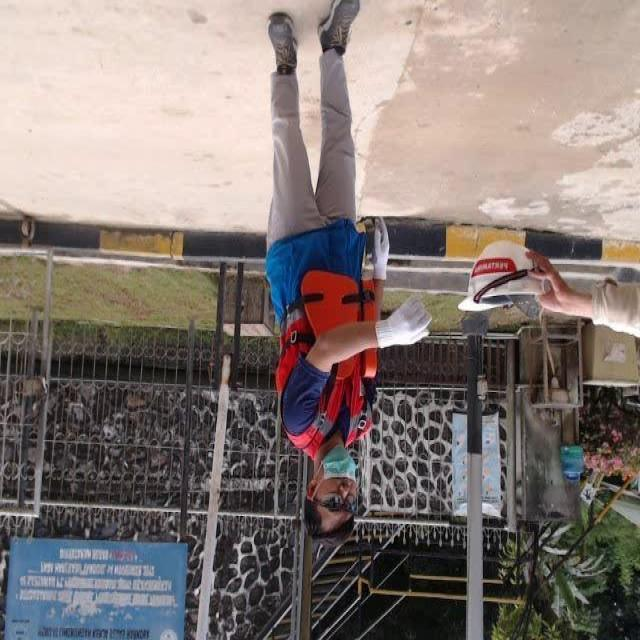jacket: (268, 268, 392, 464)
